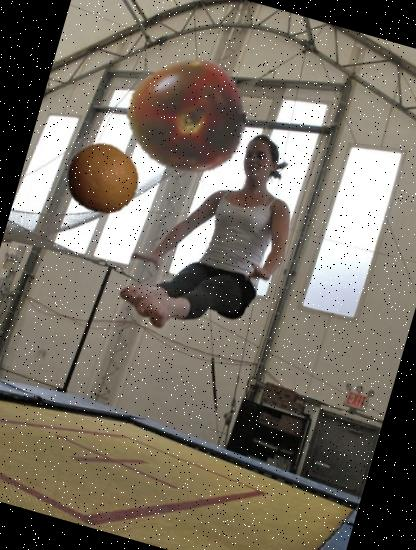Orange: (57, 134, 146, 224)
Tomato: (112, 41, 259, 188)
